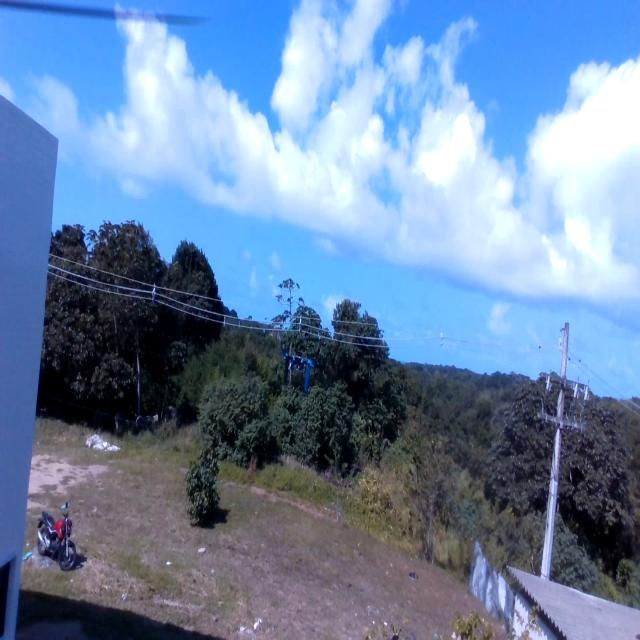-uav-: (279, 342, 314, 396)
